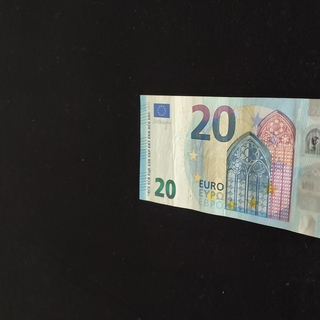20EUROFront: (138, 94, 320, 241)
